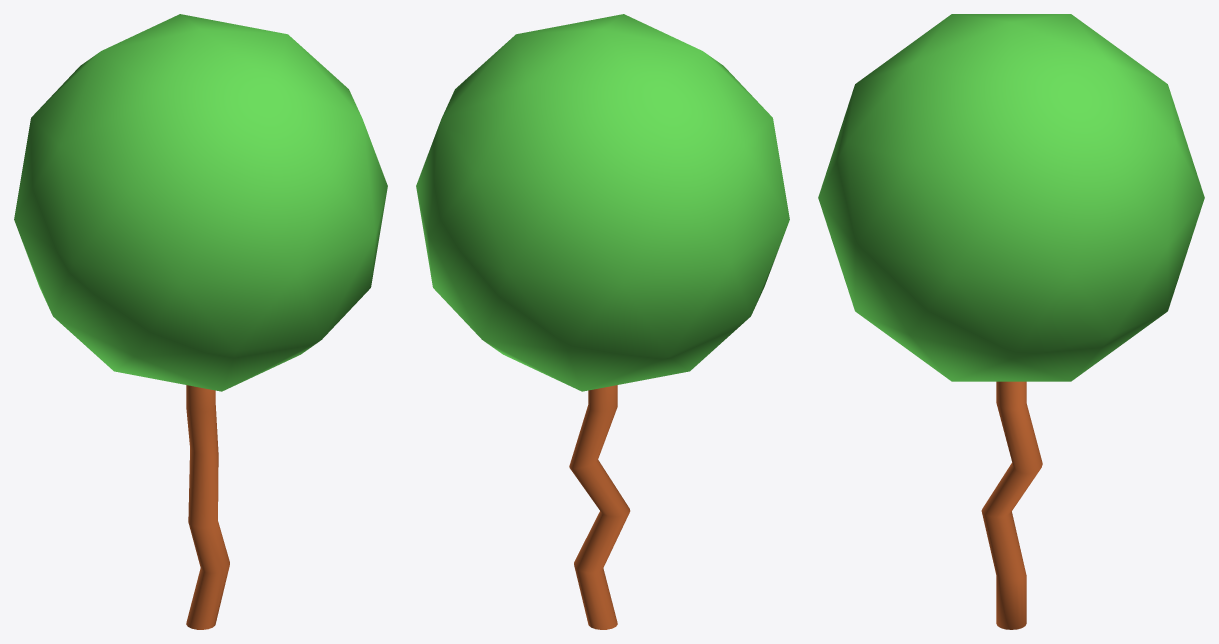
Rendered from tree1.glb.
3 views of the same model, side by side, from view 1: azimuth 30°, elevation 25°; view 2: azimuth 150°, elevation 25°; view 3: azimuth 270°, elevation 25° (orthographic).
Visible parts, largest first — view 1: Icosphere, Cylinder; view 2: Icosphere, Cylinder; view 3: Icosphere, Cylinder.
Part boxes in pixels (x1,y1,x2,y2): Icosphere: [14, 14, 387, 391]; Cylinder: [186, 385, 229, 629]; Icosphere: [416, 14, 789, 391]; Cylinder: [569, 385, 630, 629]; Icosphere: [818, 14, 1204, 381]; Cylinder: [981, 381, 1042, 629].
Bounding box in the file's own units: 6.31 × 11.38 × 6.63.
